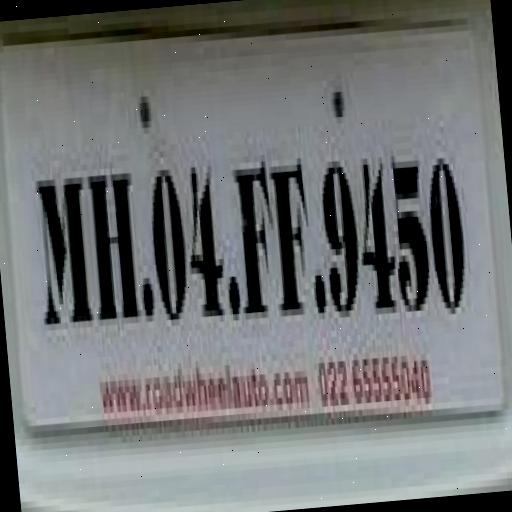number plate: (0, 0, 505, 471)
